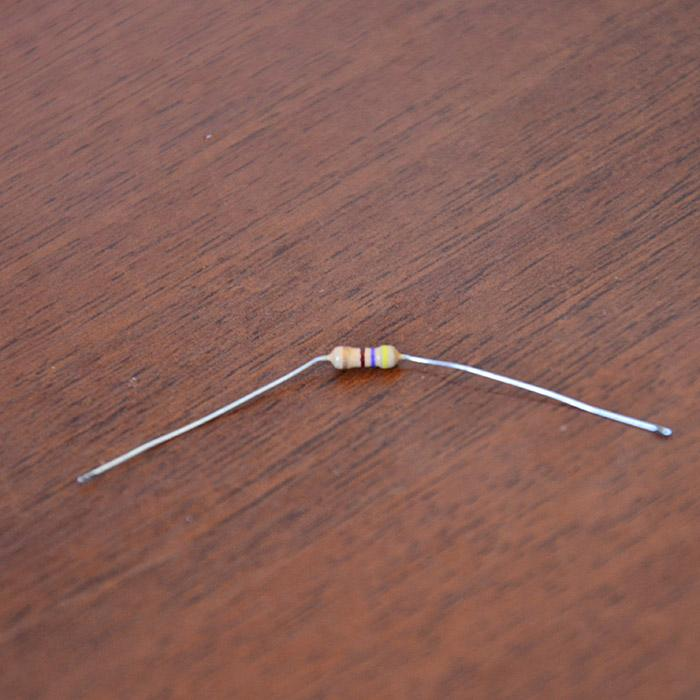resistor: (343, 298, 369, 371)
